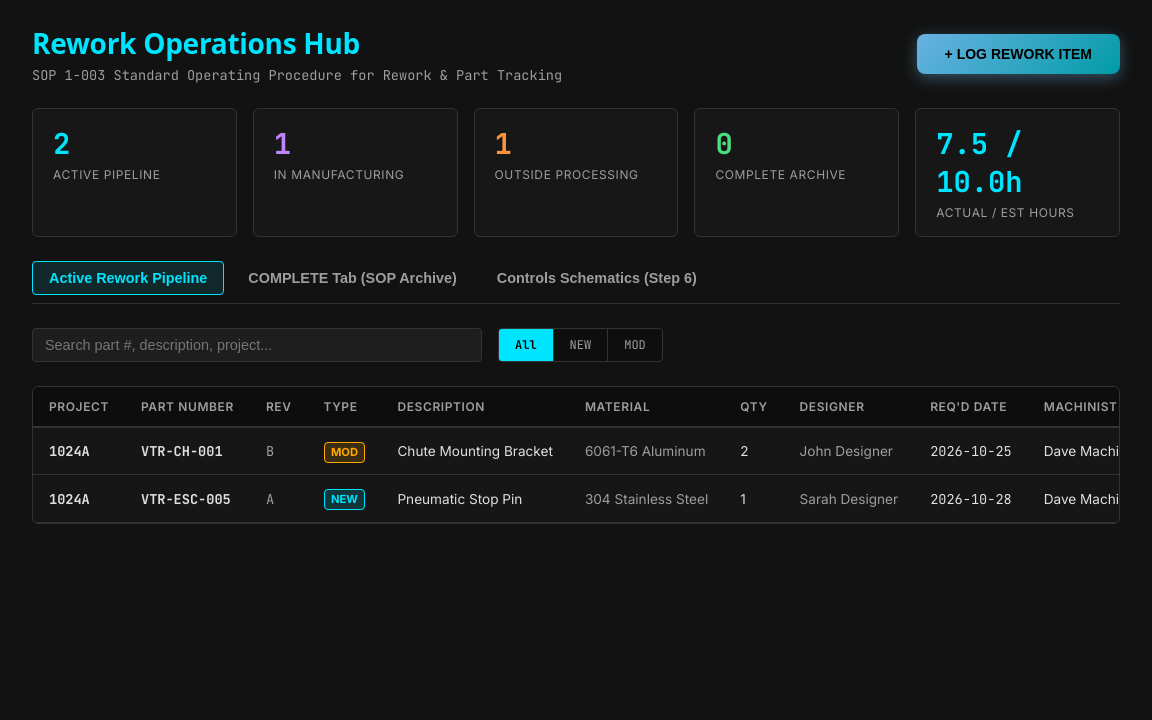
ReworkHubPage › filters rework items by part type NEW vs MOD
Click the radio button labelled "MOD": (635, 345) left=608, top=329, right=662, bottom=361
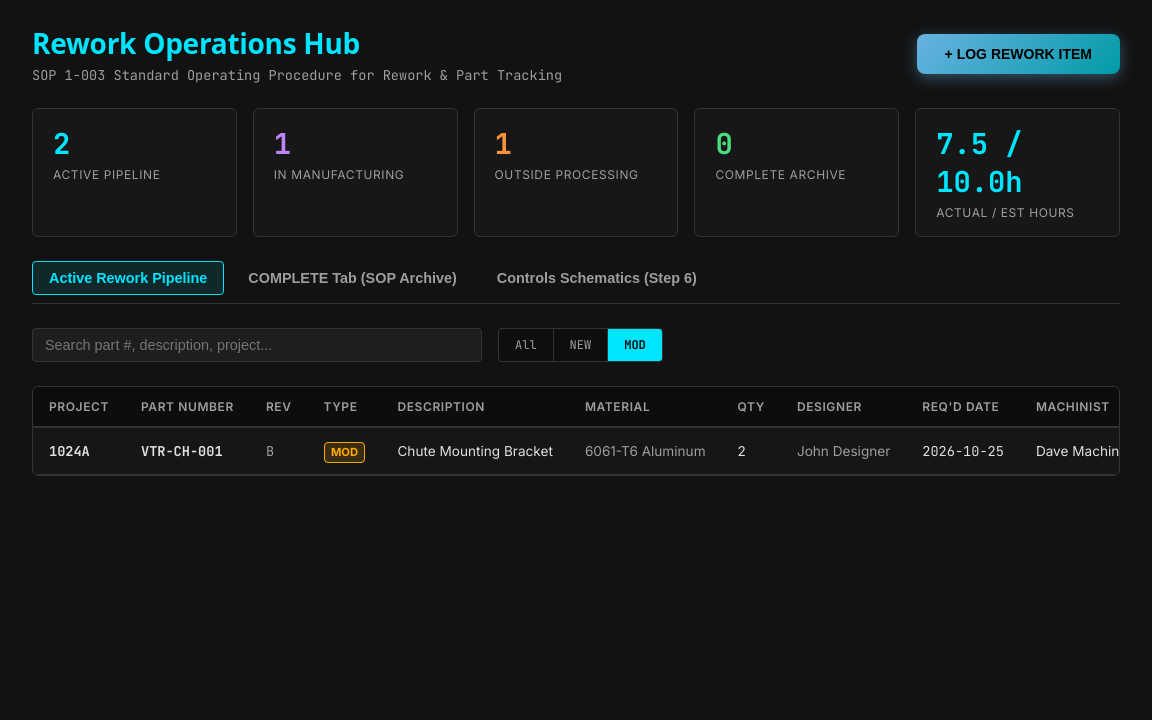
Expected: the text "VTR-CH-001" is shown, left=125, top=427, right=250, bottom=475
Now the text "VTR-ESC-005" is gone
